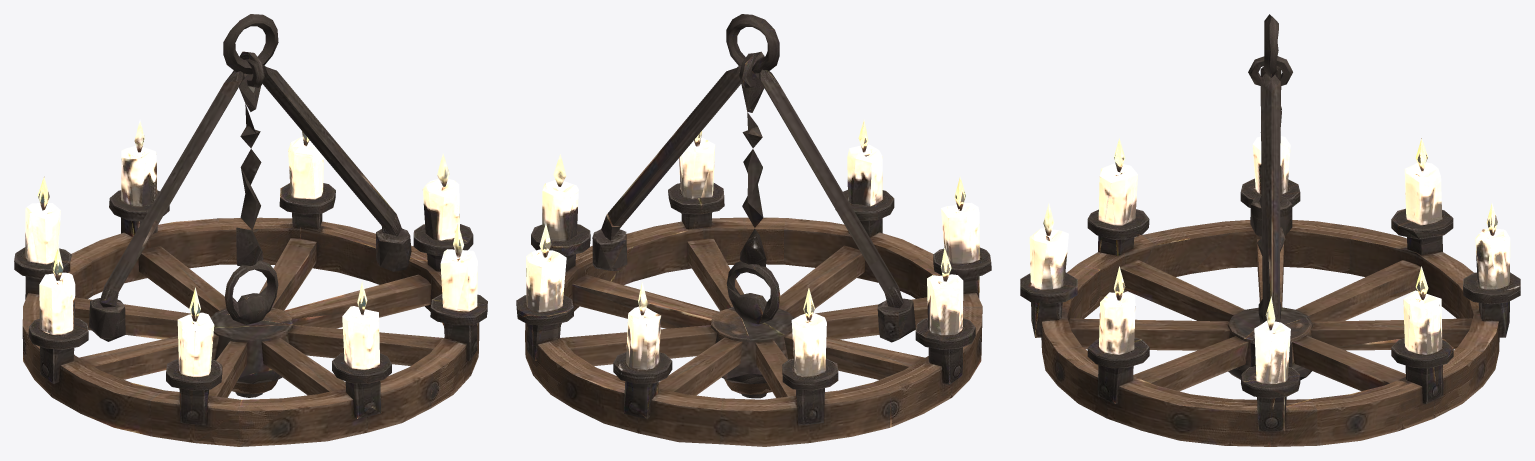
File: ceiling-fan.glb
The picture shows the model from 3 angles, left to right: view 1: azimuth 30°, elevation 25°; view 2: azimuth 150°, elevation 25°; view 3: azimuth 270°, elevation 25°; orthographic projection.
Parts seen in each view (by area): view 1: GLTF; view 2: GLTF; view 3: GLTF.
Part boxes in pixels (left/top/right/bottom): GLTF: left=14, top=14, right=487, bottom=446; GLTF: left=516, top=14, right=991, bottom=446; GLTF: left=1020, top=14, right=1520, bottom=446.
Bounding box in the file's own units: 1.3 × 1.08 × 1.29.
1 material, 1 textured.
